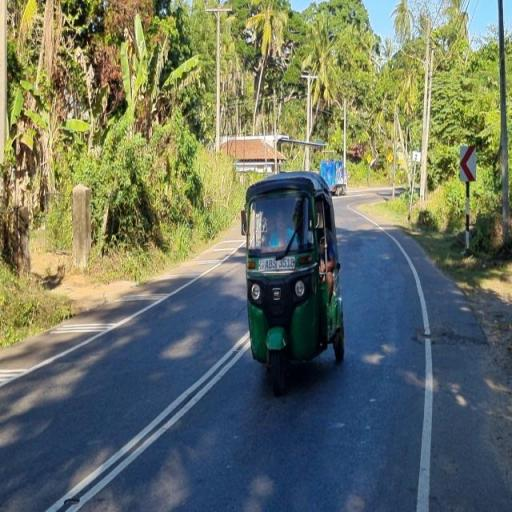double_white_line: (45, 332, 249, 512)
